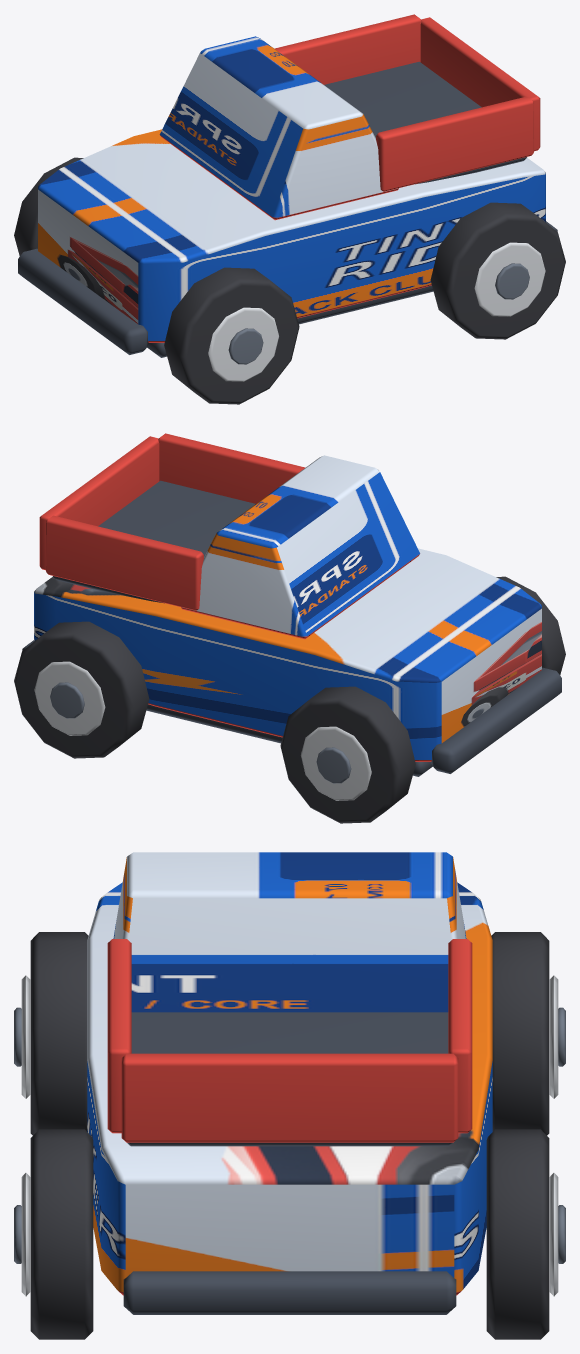
The picture shows the model from 3 angles, top to bottom: view 1: azimuth 30°, elevation 25°; view 2: azimuth 150°, elevation 25°; view 3: azimuth 270°, elevation 25°; orthographic projection. The views are drawn at different scales.
Visible parts, largest first — view 1: TC-03_connected_shell, TC-03_cabin, Tire, Tire.002, cargo side, cargo floor, cargo side.001, cargo tail, front bumper, Rim, Rim.002, Tire.001 (+3 smaller); view 2: TC-03_connected_shell, TC-03_cabin, Tire.001, Tire.003, cargo side.001, cargo floor, cargo side, cargo tail, front bumper, Rim.001, Rim.003, Tire (+3 smaller); view 3: TC-03_connected_shell, TC-03_cabin, cargo tail, cargo floor, rear bumper, Tire.002, Tire.003, Tire, Tire.001, cargo side, cargo side.001, Rim (+3 smaller).
Boxes of the visible parts, left/top/right/bottom form: TC-03_connected_shell: left=38, top=129, right=545, bottom=342; TC-03_cabin: left=159, top=36, right=398, bottom=220; Tire: left=164, top=267, right=299, bottom=404; Tire.002: left=430, top=202, right=565, bottom=339; cargo side: left=376, top=96, right=533, bottom=191; cargo floor: left=324, top=61, right=526, bottom=184; cargo side.001: left=274, top=14, right=421, bottom=84; cargo tail: left=420, top=17, right=540, bottom=151; front bumper: left=18, top=248, right=148, bottom=354; Rim: left=208, top=307, right=278, bottom=381; Rim.002: left=474, top=242, right=545, bottom=316; Tire.001: left=14, top=157, right=83, bottom=255; TC-03_connected_shell: left=34, top=548, right=541, bottom=761; TC-03_cabin: left=181, top=455, right=420, bottom=639; Tire.001: left=280, top=686, right=415, bottom=823; Tire.003: left=14, top=621, right=149, bottom=758; cargo side.001: left=46, top=515, right=203, bottom=610; cargo floor: left=53, top=480, right=255, bottom=603; cargo side: left=158, top=433, right=305, bottom=503; cargo tail: left=39, top=436, right=159, bottom=570; front bumper: left=431, top=667, right=561, bottom=773; Rim.001: left=301, top=726, right=371, bottom=800; Rim.003: left=34, top=661, right=105, bottom=735; Tire: left=496, top=576, right=565, bottom=674; TC-03_connected_shell: left=87, top=882, right=492, bottom=1295; TC-03_cabin: left=113, top=852, right=466, bottom=1012; cargo tail: left=121, top=1053, right=458, bottom=1142; cargo floor: left=127, top=1012, right=452, bottom=1146; rear bumper: left=123, top=1271, right=456, bottom=1314; Tire.002: left=30, top=1129, right=93, bottom=1339; Tire.003: left=486, top=1129, right=549, bottom=1339; Tire: left=30, top=932, right=88, bottom=1135; Tire.001: left=491, top=932, right=549, bottom=1135; cargo side: left=107, top=939, right=131, bottom=1133; cargo side.001: left=448, top=939, right=472, bottom=1133; Rim: left=21, top=975, right=30, bottom=1098.
Bounding box in the file's own units: 318 × 163 × 230.
